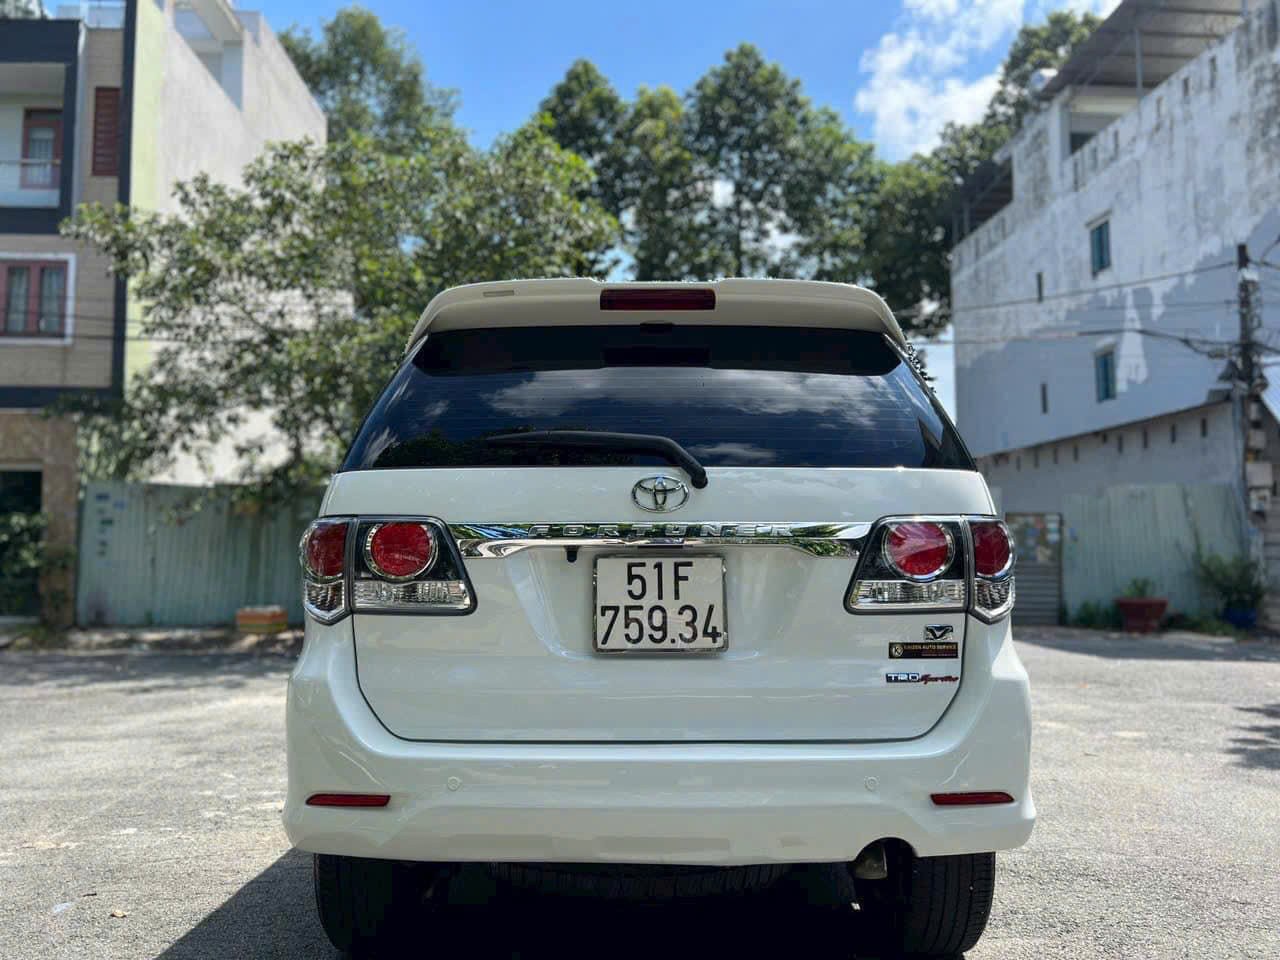number-plate: (594, 556, 727, 654)
